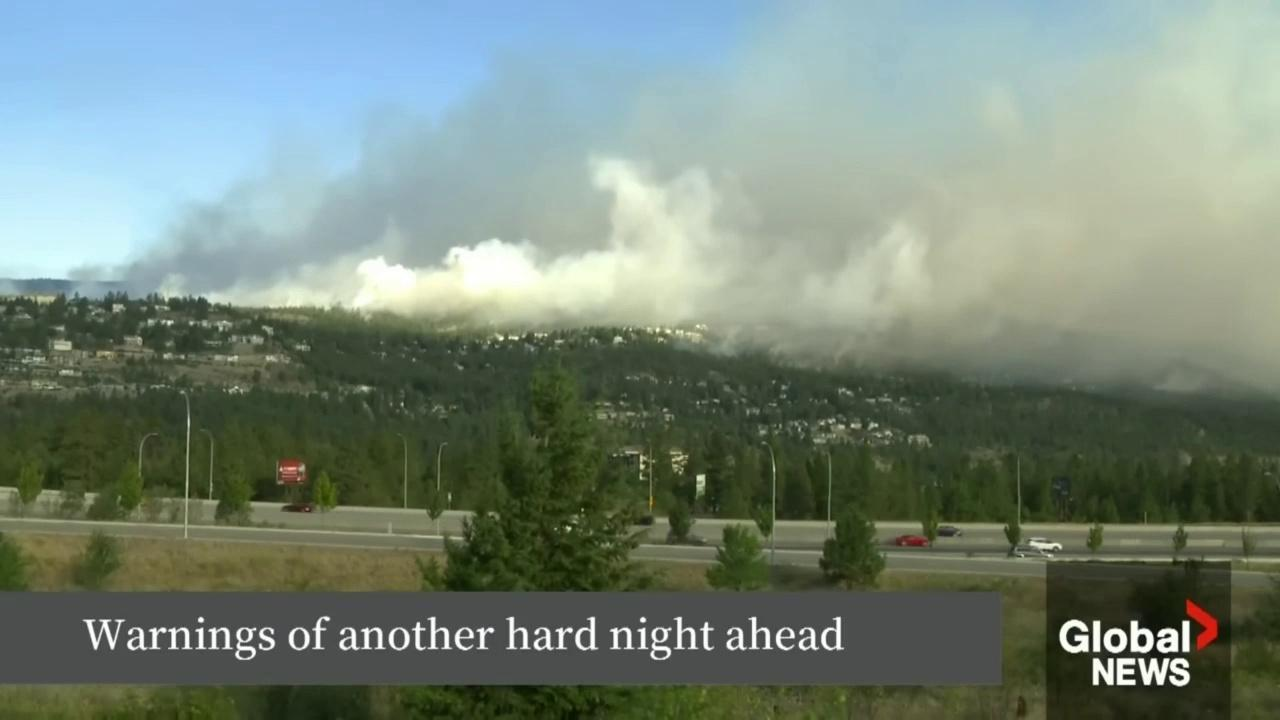smoke: (0, 0, 1280, 411)
